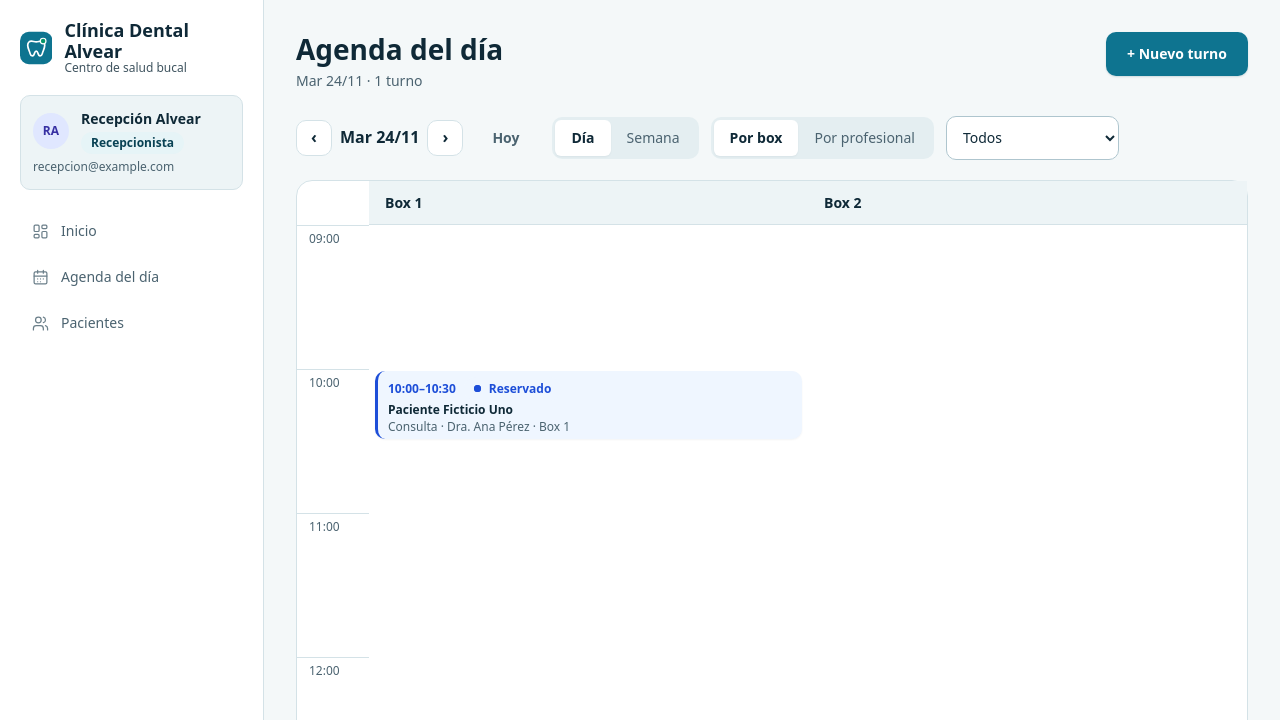
Requirement: Sin precios en ninguna pantalla › Una respuesta con precio no se muestra
Click the button with aria-label "turno de las 10:00". click: x=422, y=388
box: [375, 371, 802, 439]
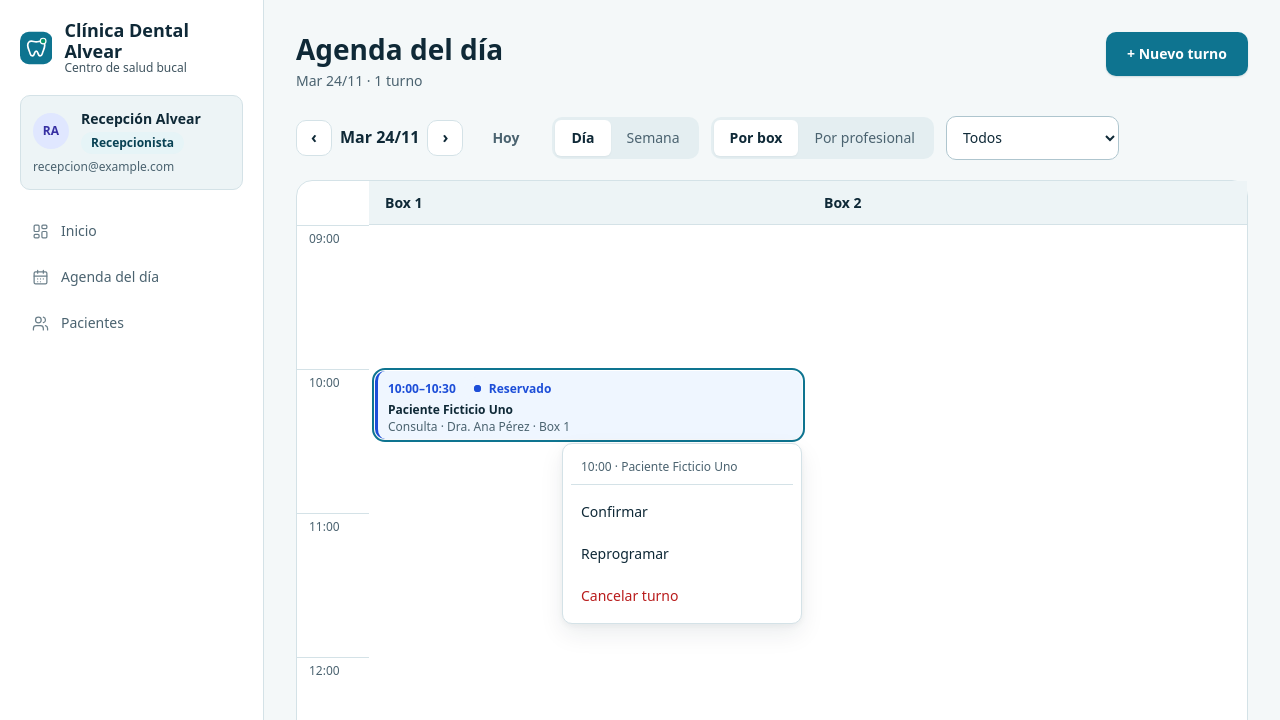
Now the menu is shown, box [562, 443, 802, 624]
